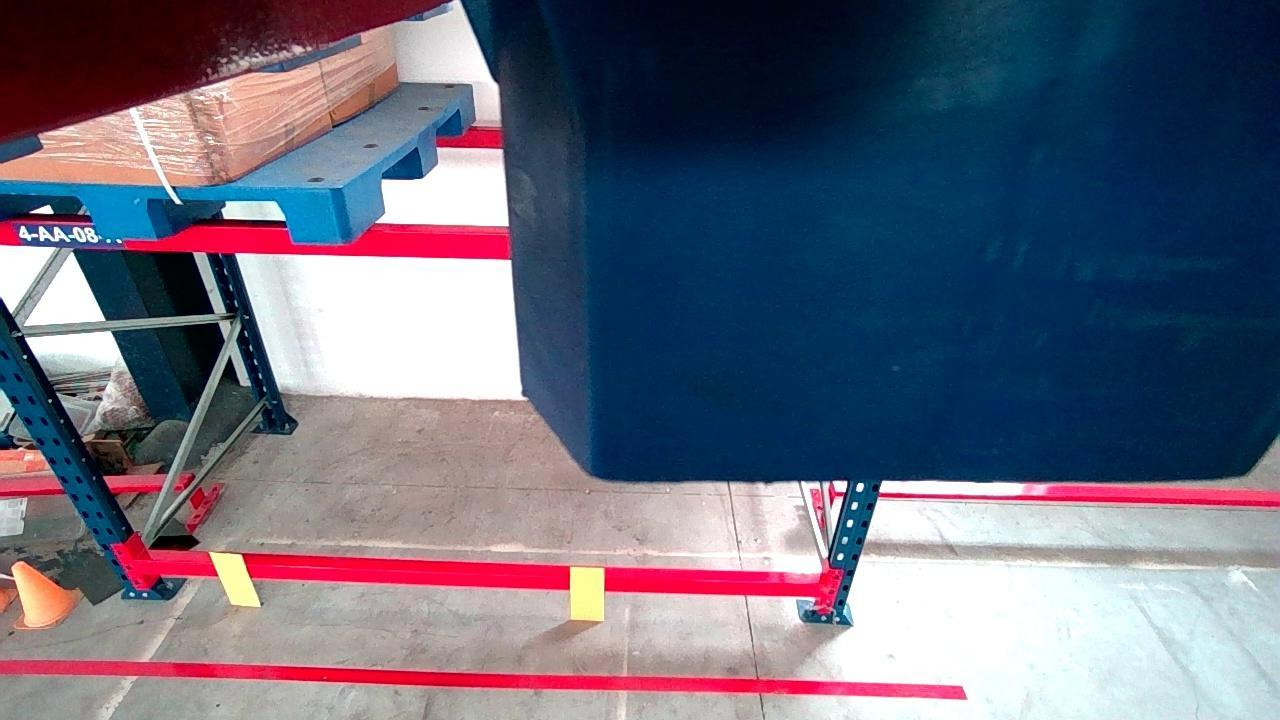h_rack: (136, 561, 819, 598)
orange_strip: (210, 554, 257, 606), (570, 566, 603, 620)
red_line: (1, 659, 967, 699)
small_pallet: (0, 182, 343, 242)
